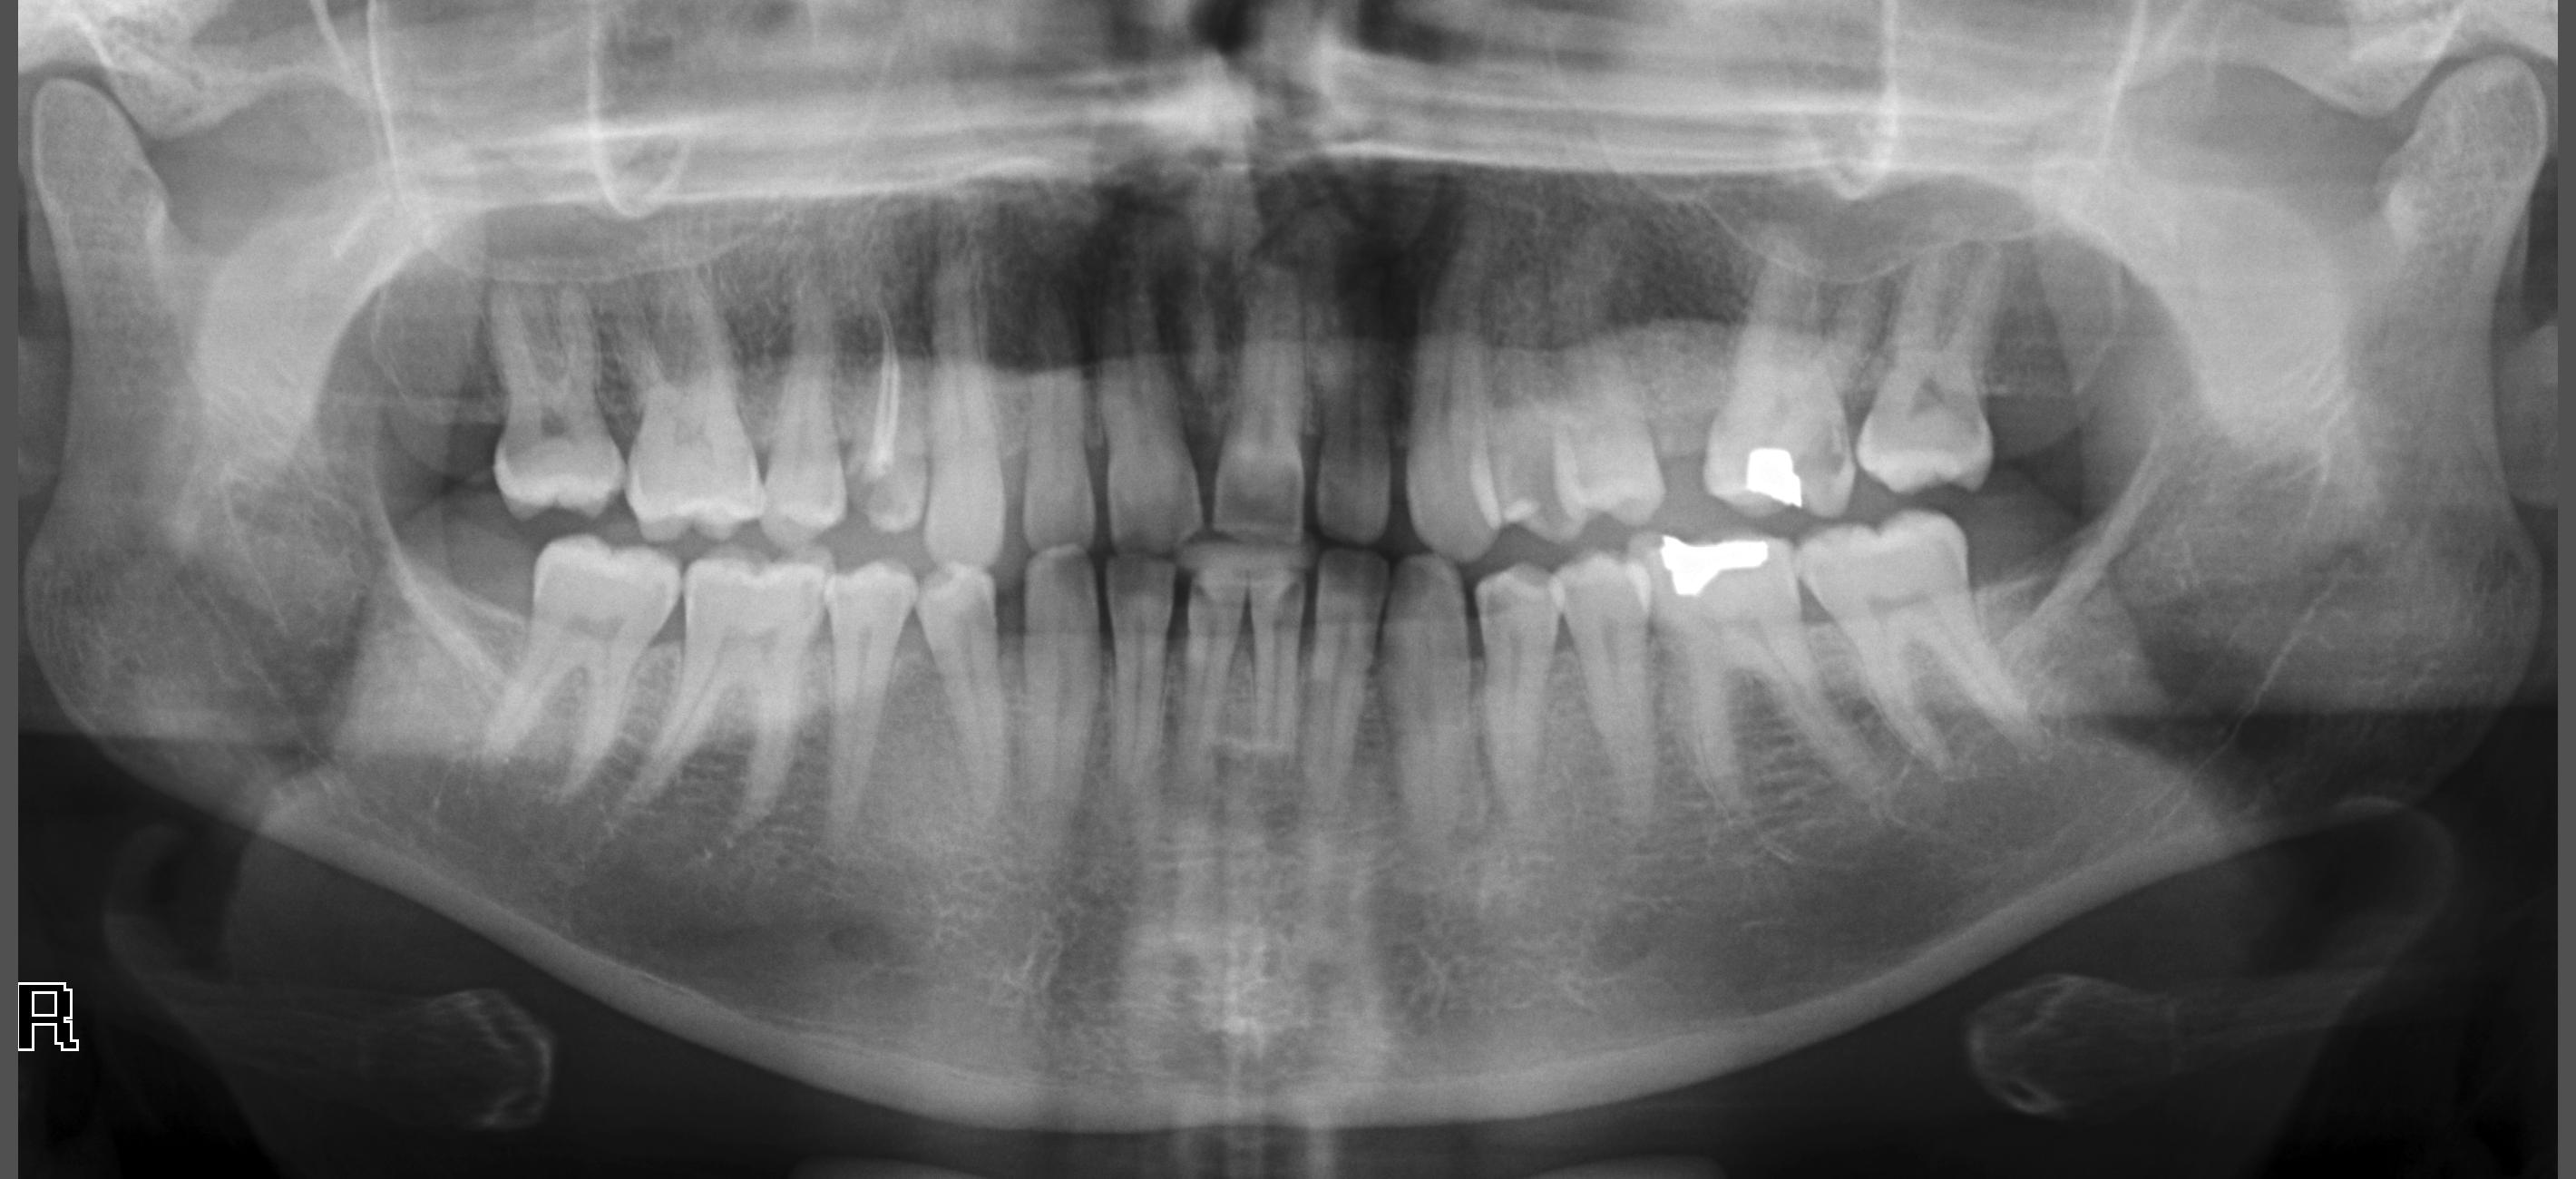Çürük: (1644, 532, 1775, 591), (1739, 450, 1798, 504)
Çürük Bölgesi: (1518, 416, 1573, 516), (845, 455, 905, 527), (1796, 439, 1850, 490), (1471, 573, 1520, 624), (1060, 549, 1097, 606), (1188, 577, 1223, 615), (1285, 573, 1312, 601)
